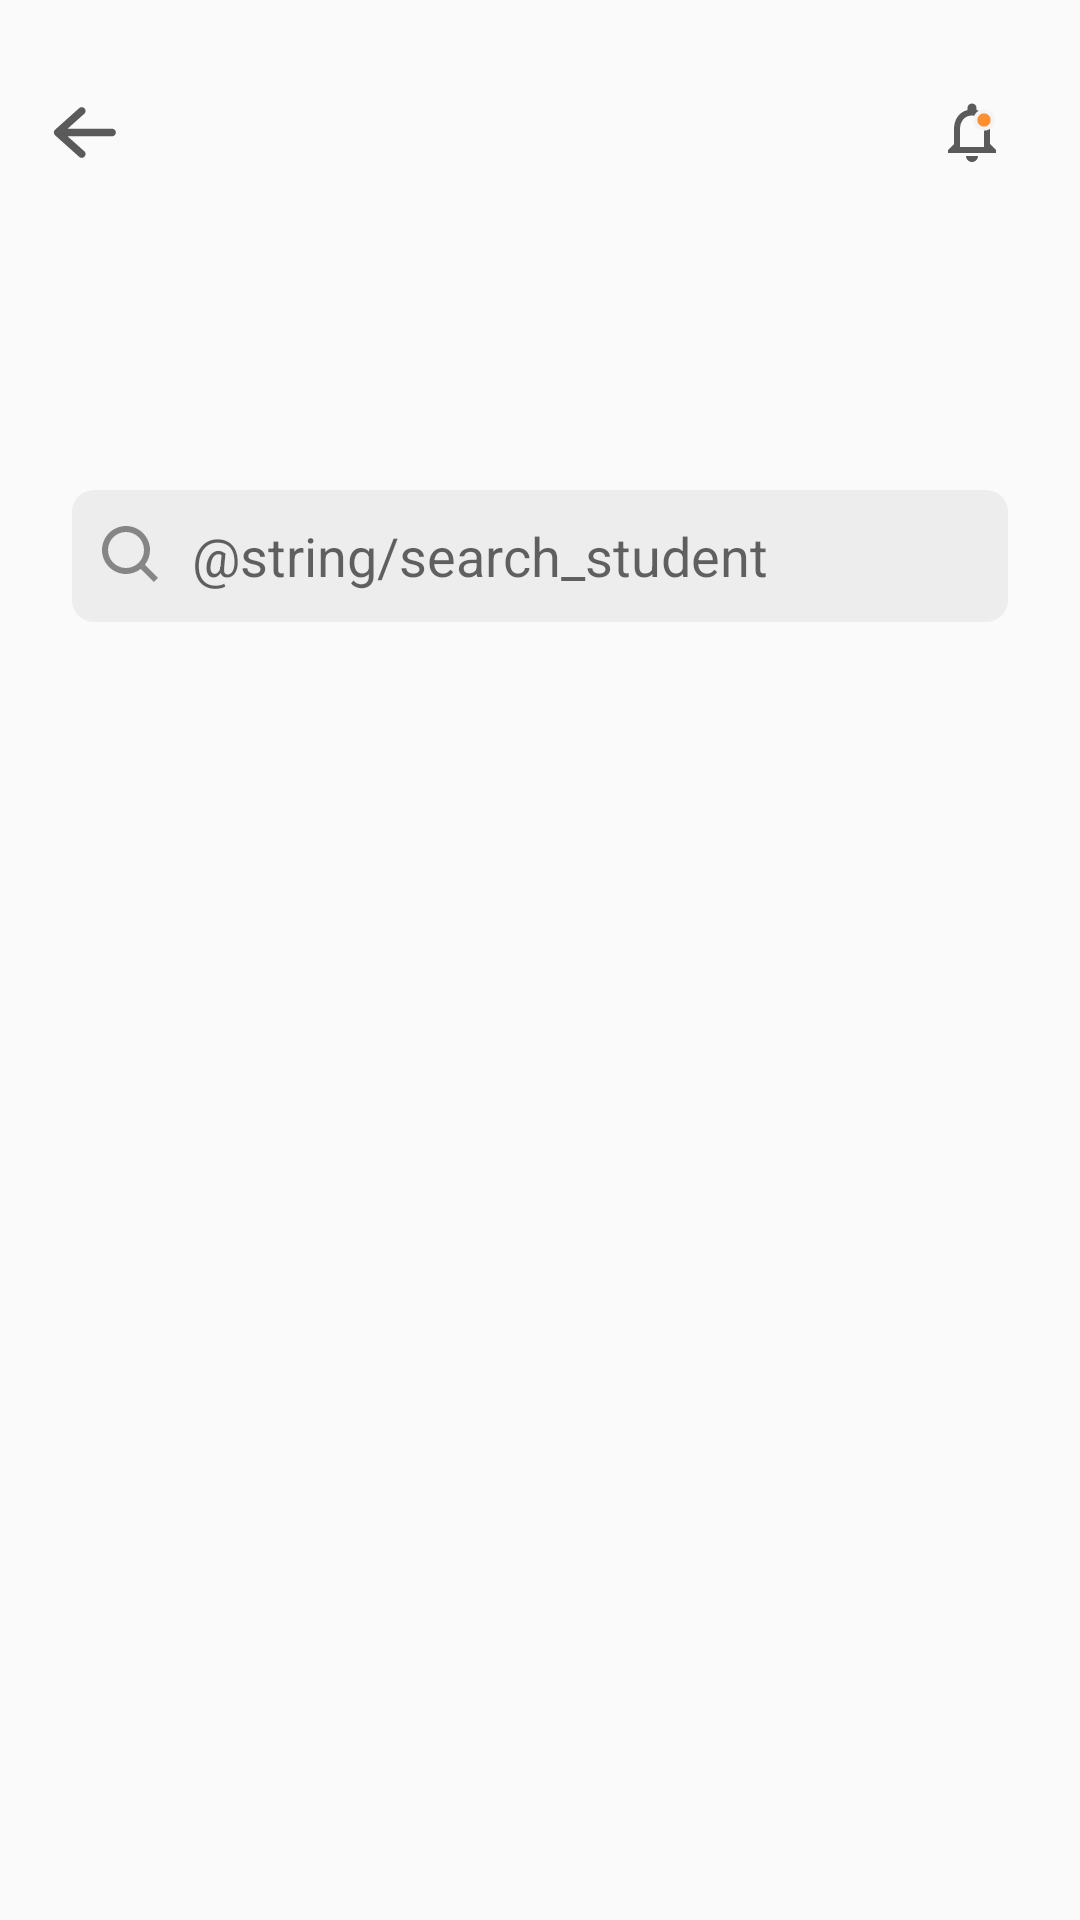

Where to tap for icons on this 1080px x 1920px app screen, as (x,y):
notifications: (972,132)
